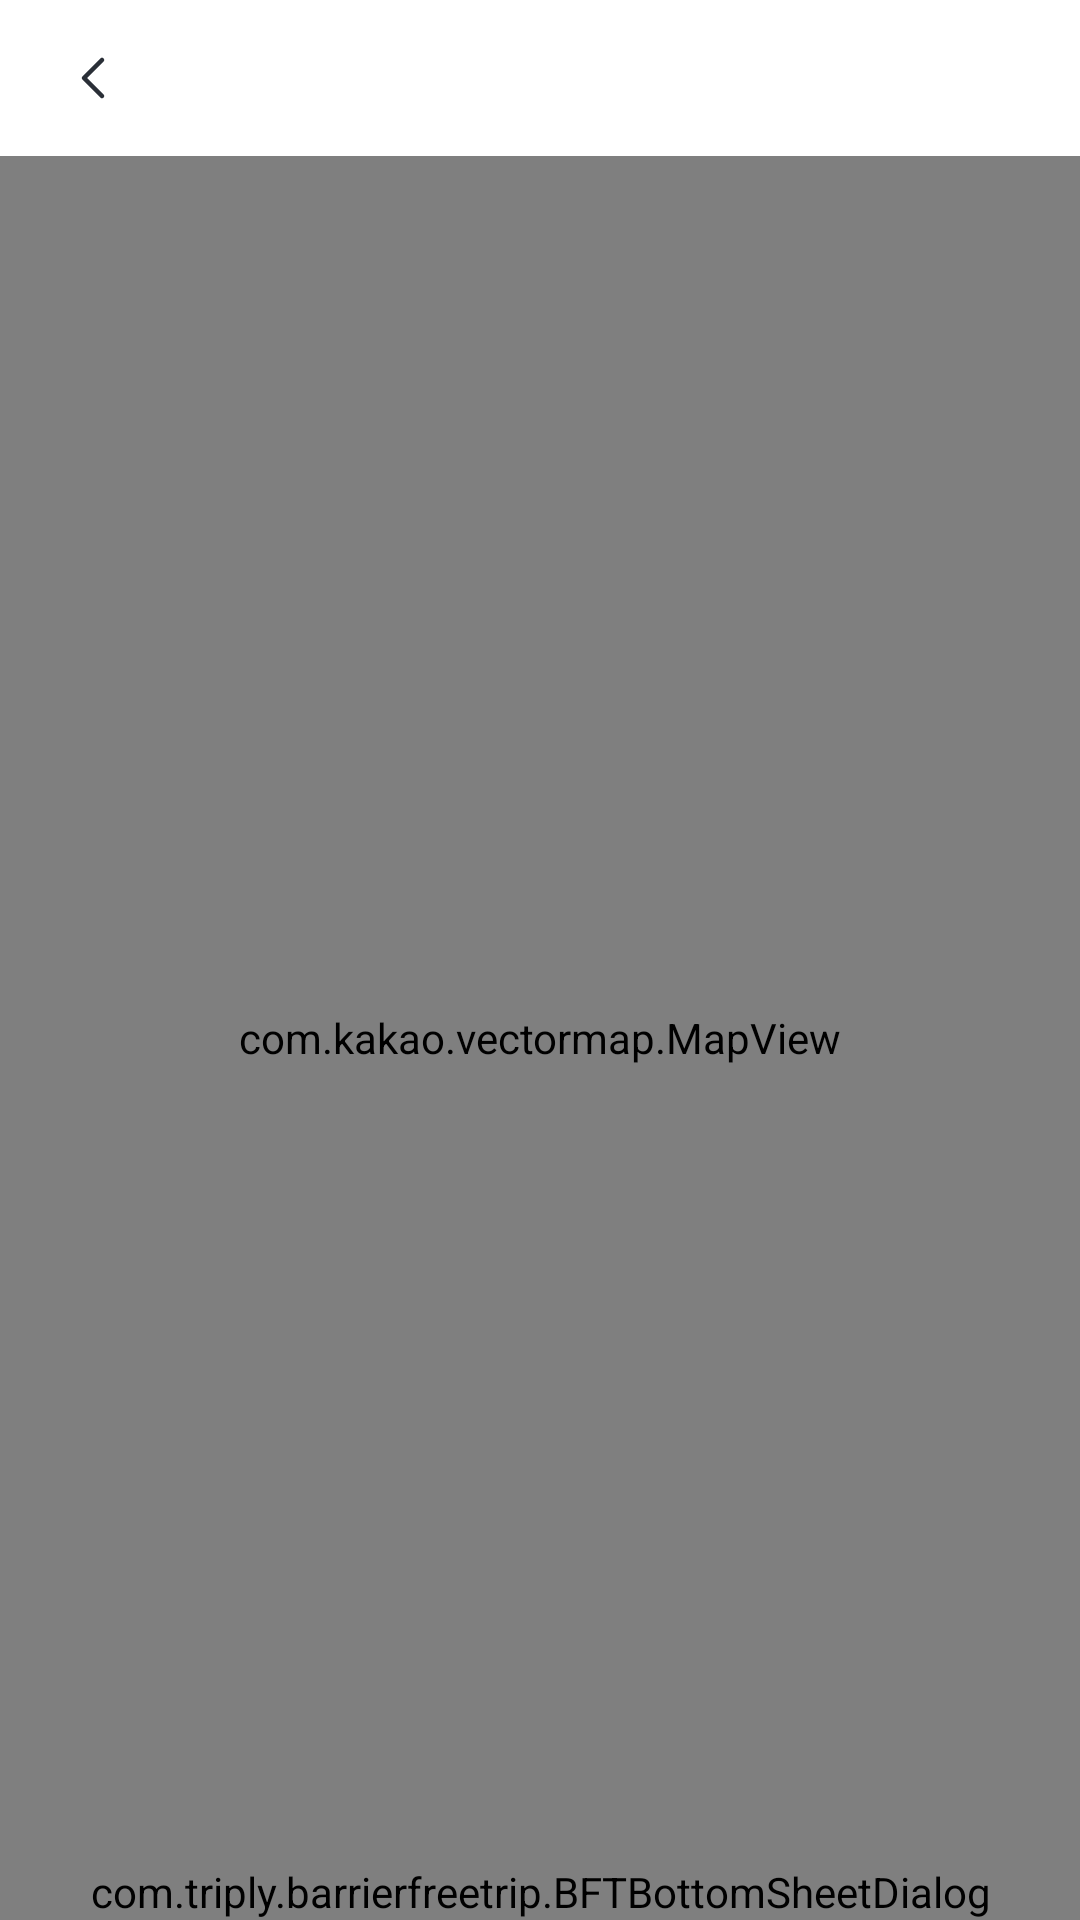

Named icons in this screenshot (1080px x 1920px) and their bounding boxes, (x1, y1, x2, y2):
back: (81, 57, 105, 99)
